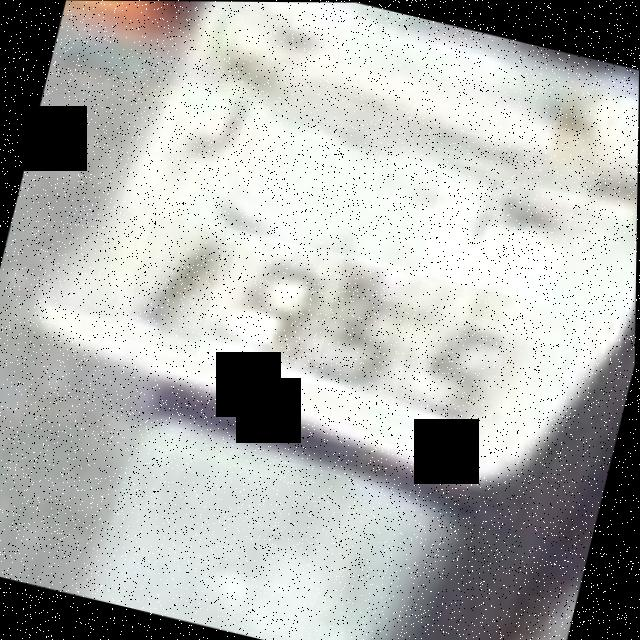1: (123, 213, 239, 358)
5: (291, 246, 428, 403), (397, 278, 542, 423)
9: (197, 227, 346, 384)
T: (418, 163, 578, 305)
